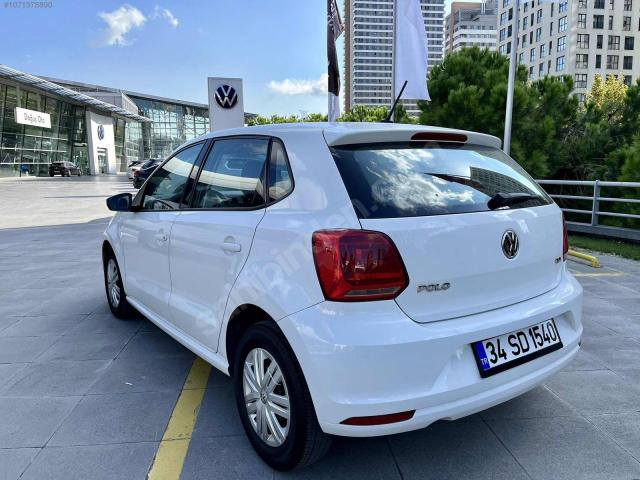plaka: (473, 318, 563, 374)
